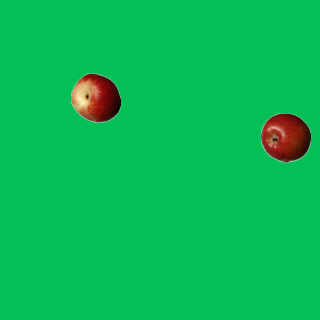Apple Braeburn: (260, 112, 310, 162)
Nectarine: (70, 72, 120, 122)
